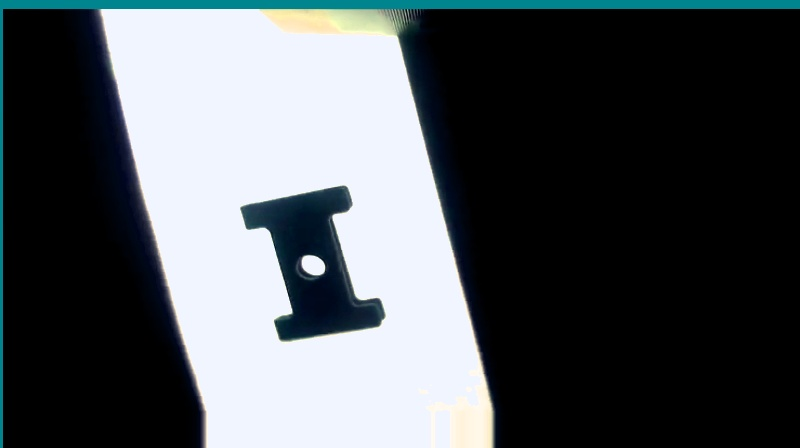O002: (236, 180, 388, 342)
